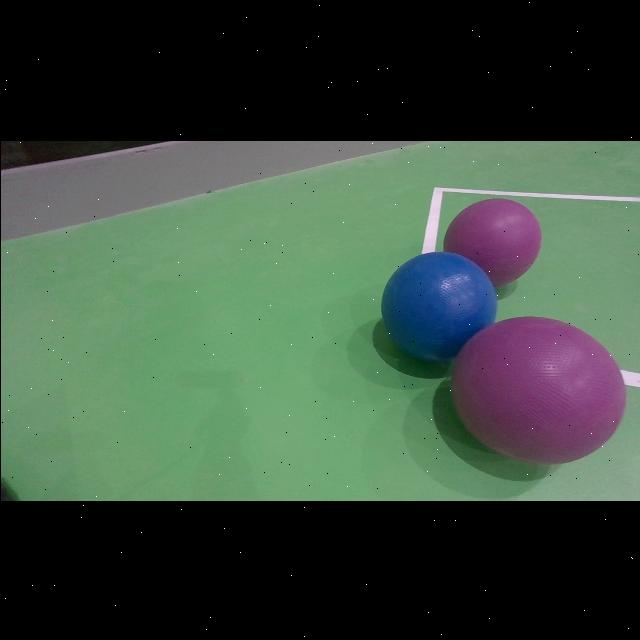B: (379, 250, 497, 362)
P: (450, 315, 626, 463), (443, 190, 549, 282)
